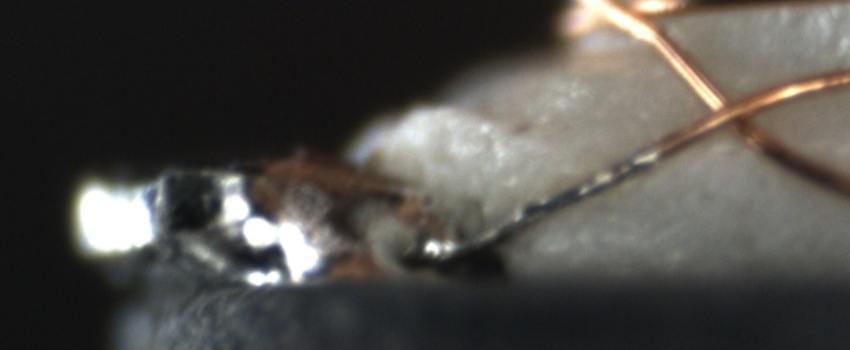CL: (687, 77, 777, 146)
TS: (438, 146, 661, 262)
